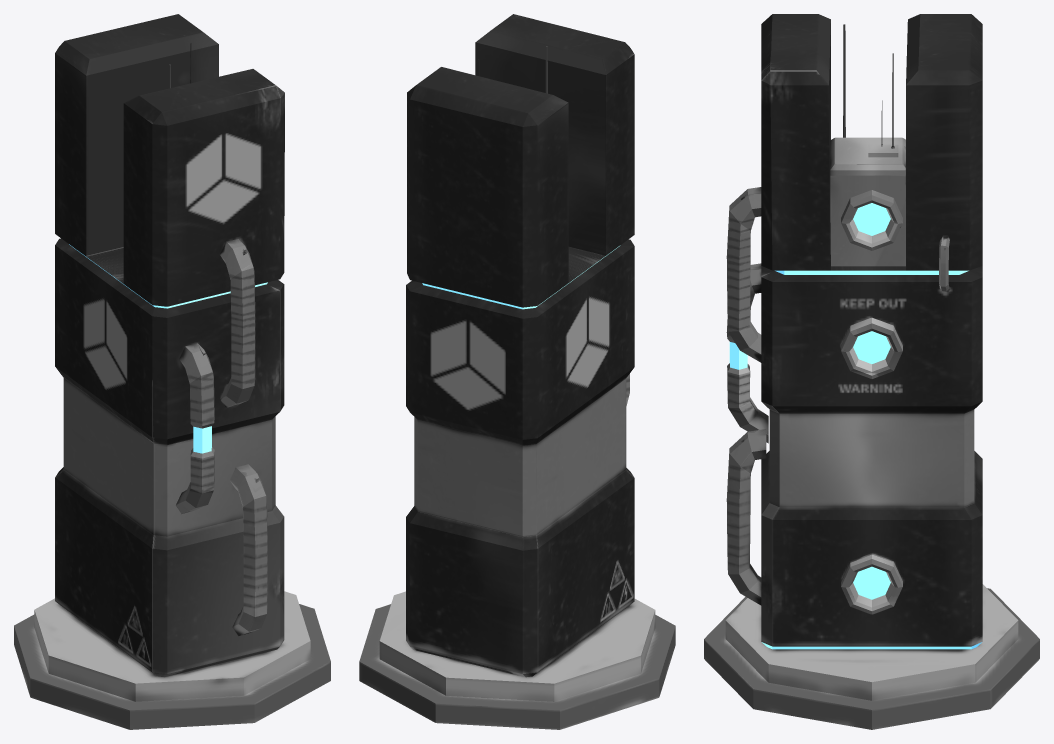
3 views of the same model, side by side, from view 1: azimuth 30°, elevation 25°; view 2: azimuth 150°, elevation 25°; view 3: azimuth 270°, elevation 25° (orthographic). The views are drawn at different scales.
Parts seen in each view (by area): view 1: Static_head:GEO_ST4_T1C; view 2: Static_head:GEO_ST4_T1C; view 3: Static_head:GEO_ST4_T1C.
Boxes of the visible parts, <box> form: Static_head:GEO_ST4_T1C: <box>14,14,330,729</box>; Static_head:GEO_ST4_T1C: <box>359,14,675,729</box>; Static_head:GEO_ST4_T1C: <box>704,14,1039,729</box>.
Size of the model in its own units: 188 by 386 by 188.
Materials: 2 (1 with a texture image).
